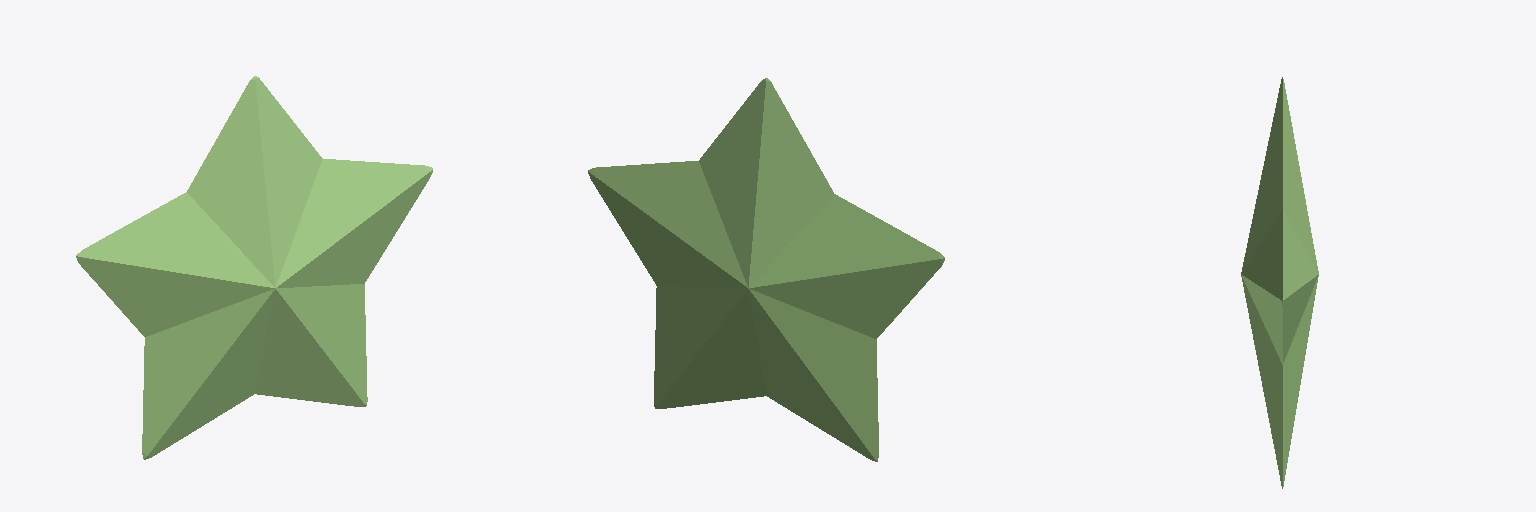
Rendered from star-5.obj.
3 renders of one model, left to right at view 1: azimuth 30°, elevation 25°; view 2: azimuth 150°, elevation 25°; view 3: azimuth 270°, elevation 25°, orthographic.
Parts seen in each view (by area): view 1: Cylinder001; view 2: Cylinder001; view 3: Cylinder001.
Part boxes in pixels (x1,y1,x2,y2): Cylinder001: (76, 76, 432, 459); Cylinder001: (588, 78, 944, 461); Cylinder001: (1241, 77, 1318, 488).
Size of the model in its own units: 7.95 by 7.61 by 1.5.